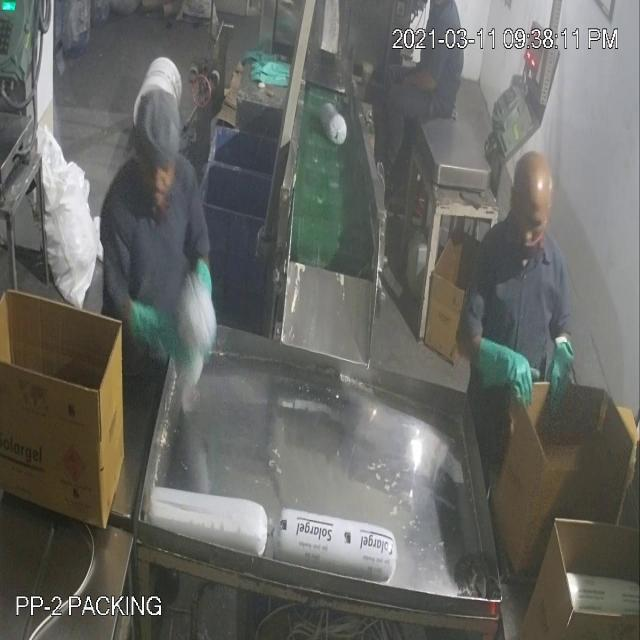Gloves: (31, 86, 558, 375)
